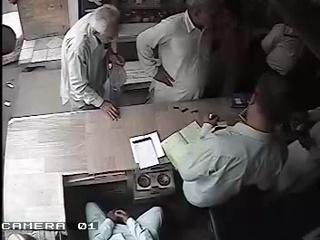Normal: (164, 72, 294, 238), (136, 0, 224, 104), (60, 4, 126, 122), (85, 202, 163, 239)
